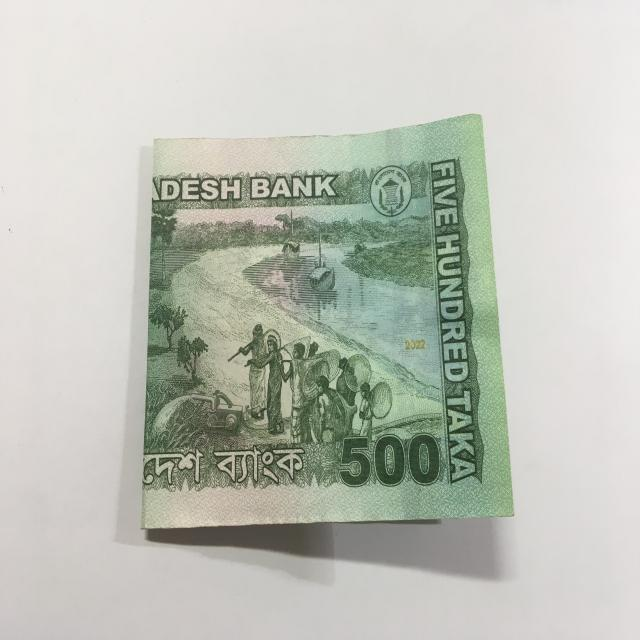Taka: (140, 121, 518, 538)
